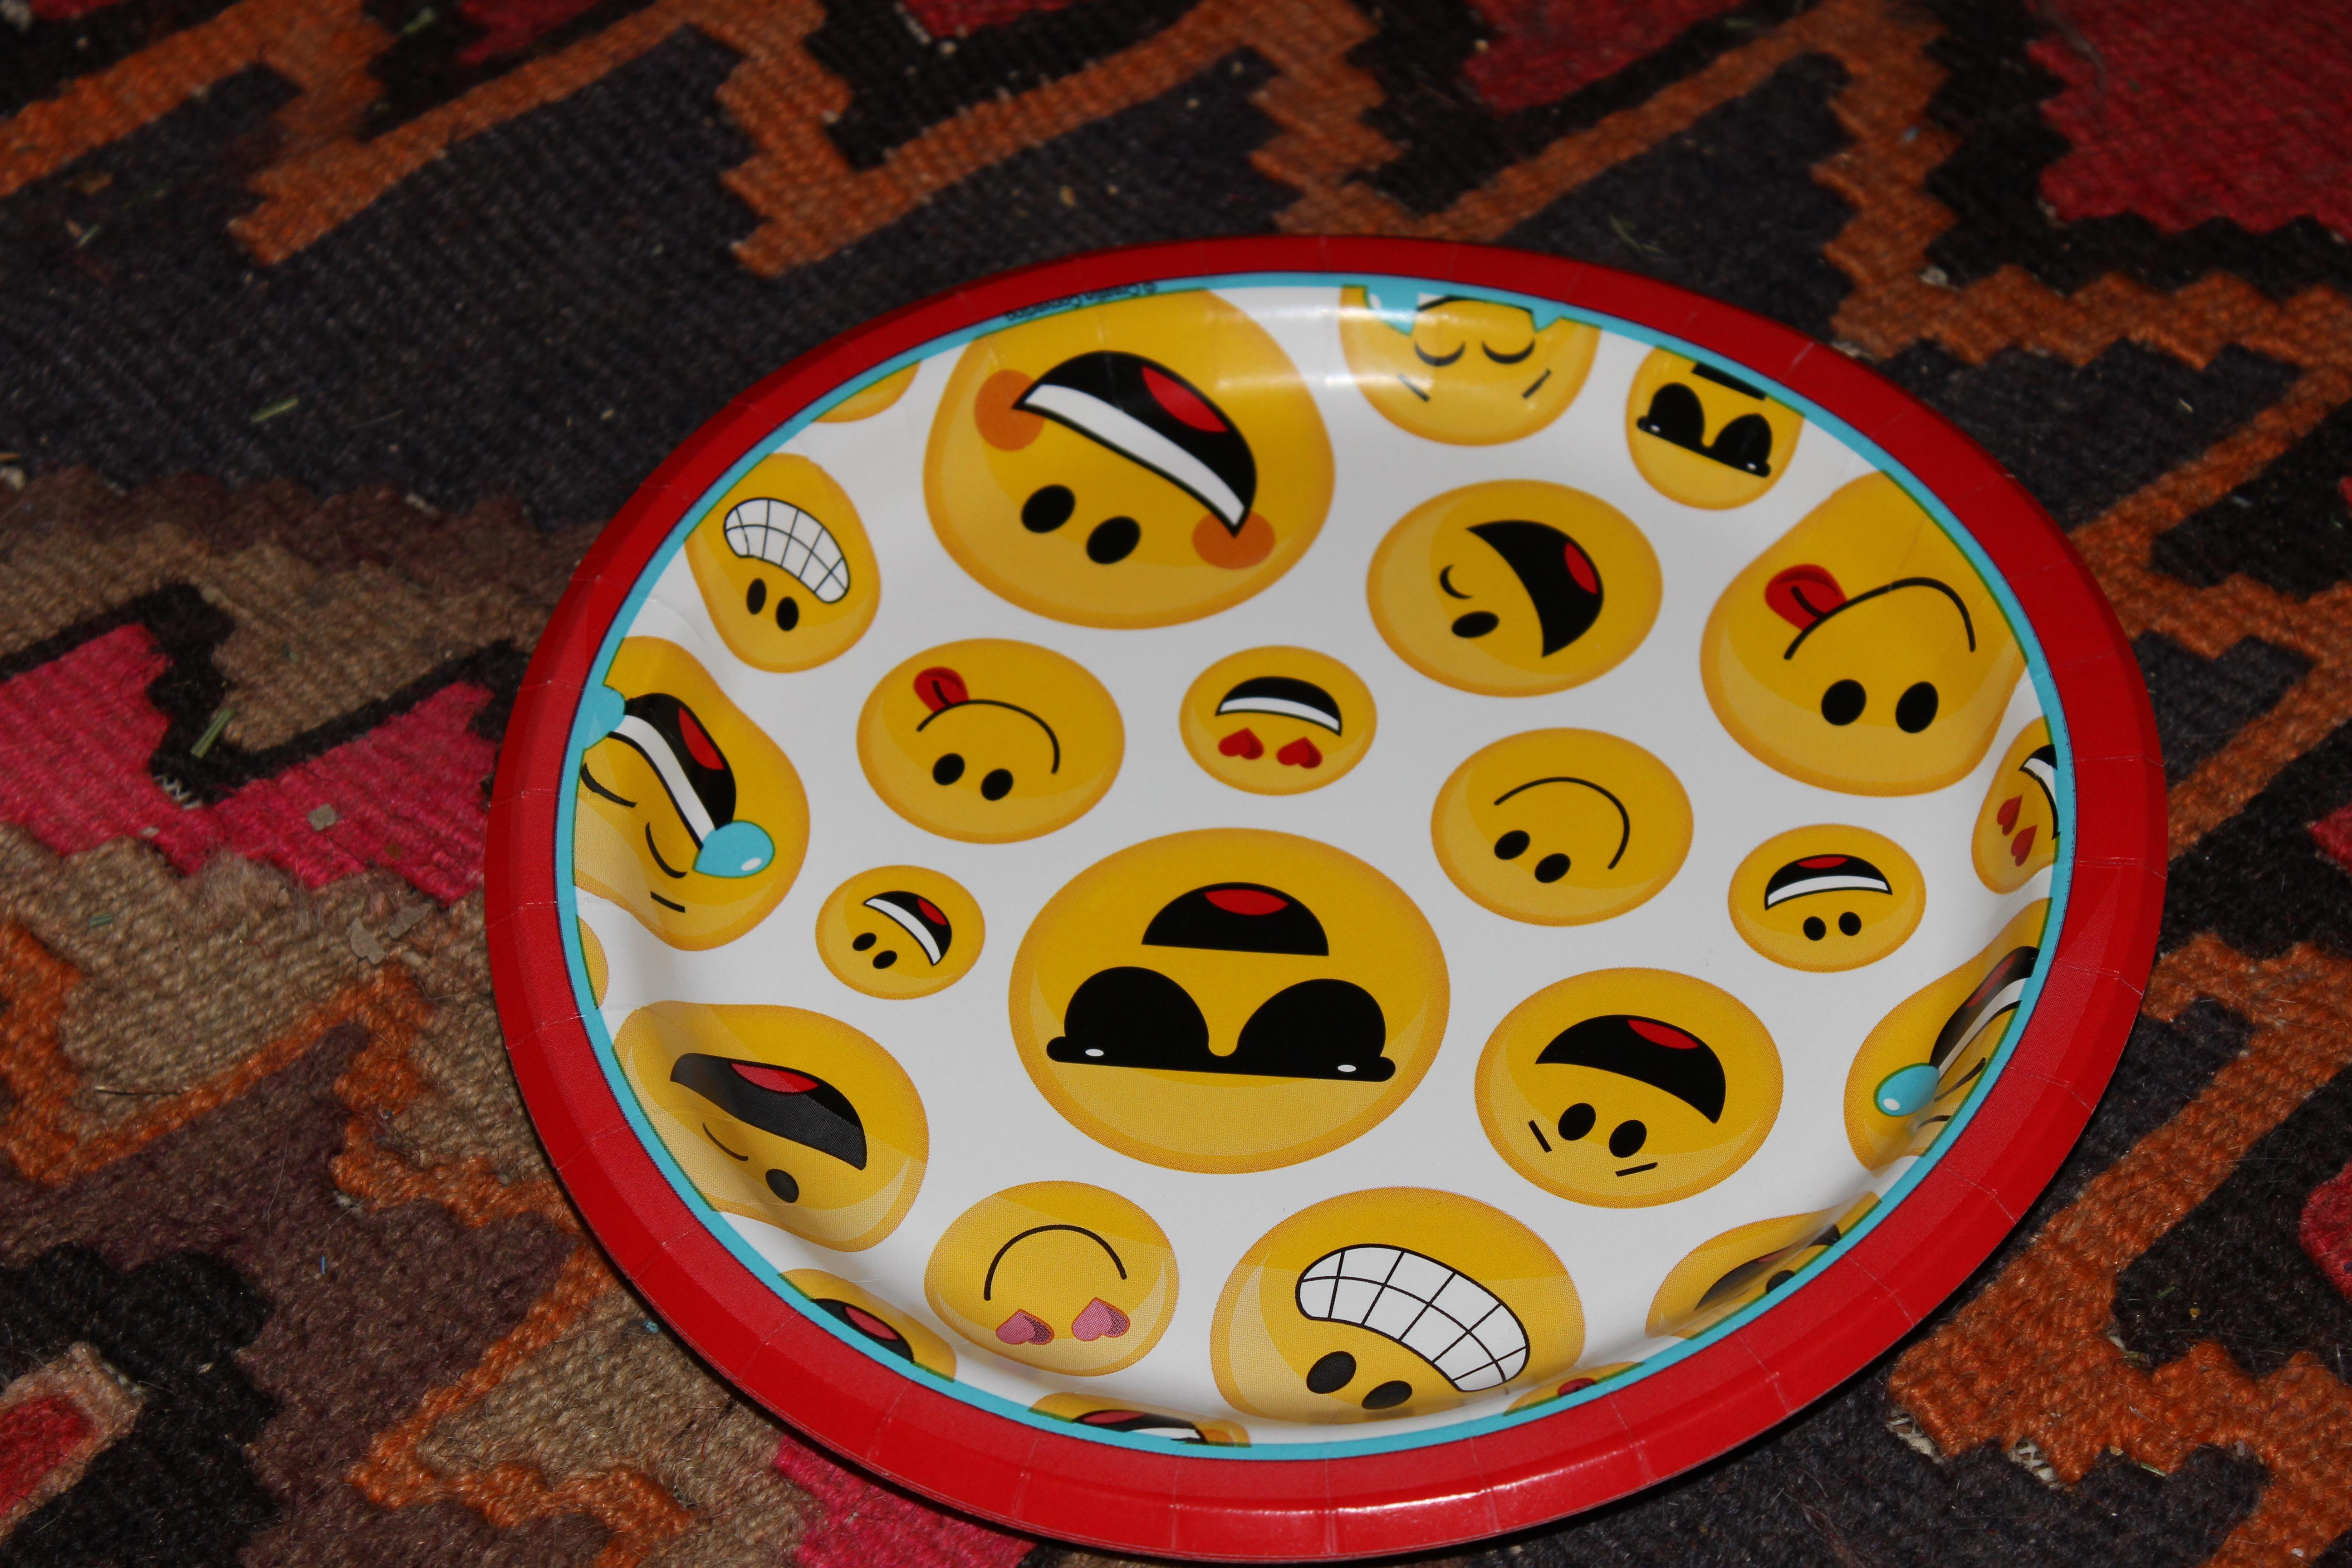paperPlate: (443, 205, 2209, 1568)
